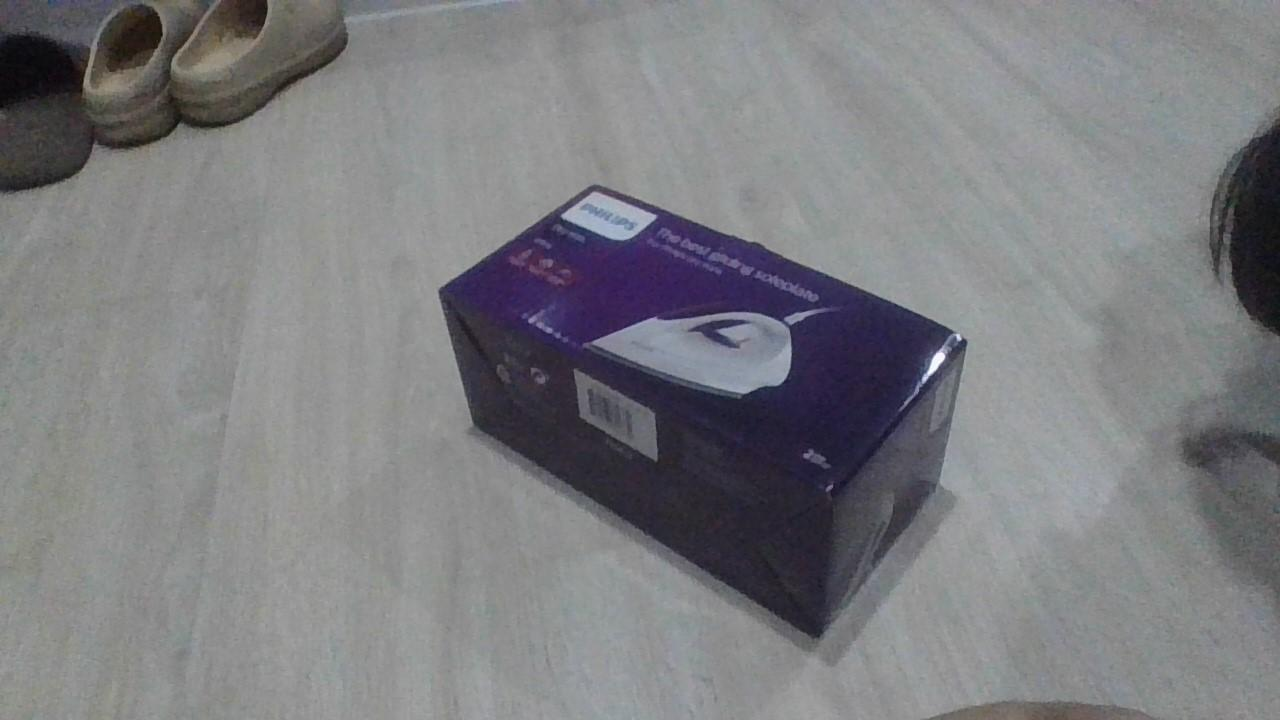IRON: (434, 179, 970, 646)
